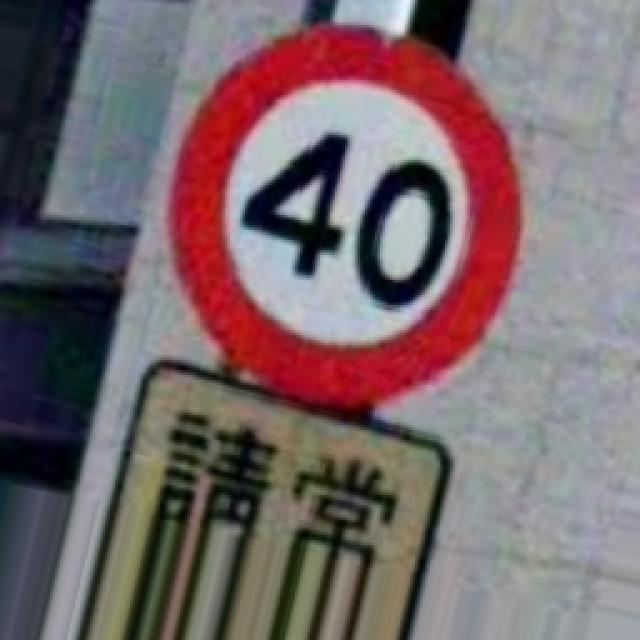Speed Limit -40-: (170, 22, 520, 408)
